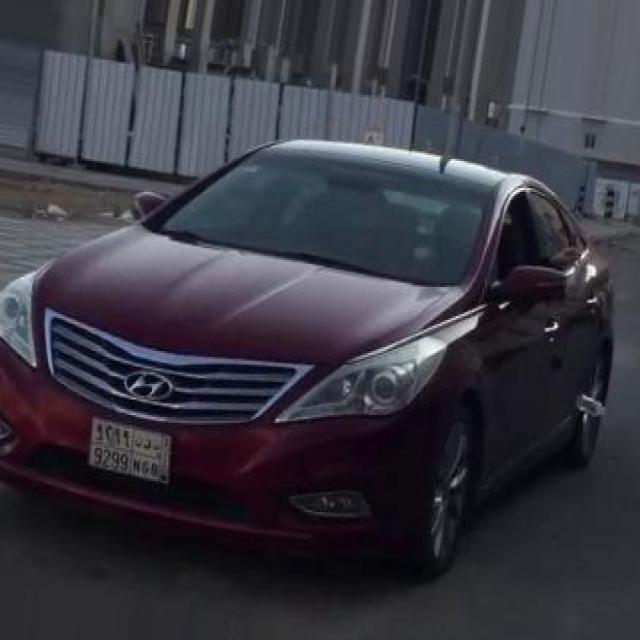Car-plate: (83, 408, 181, 492)
